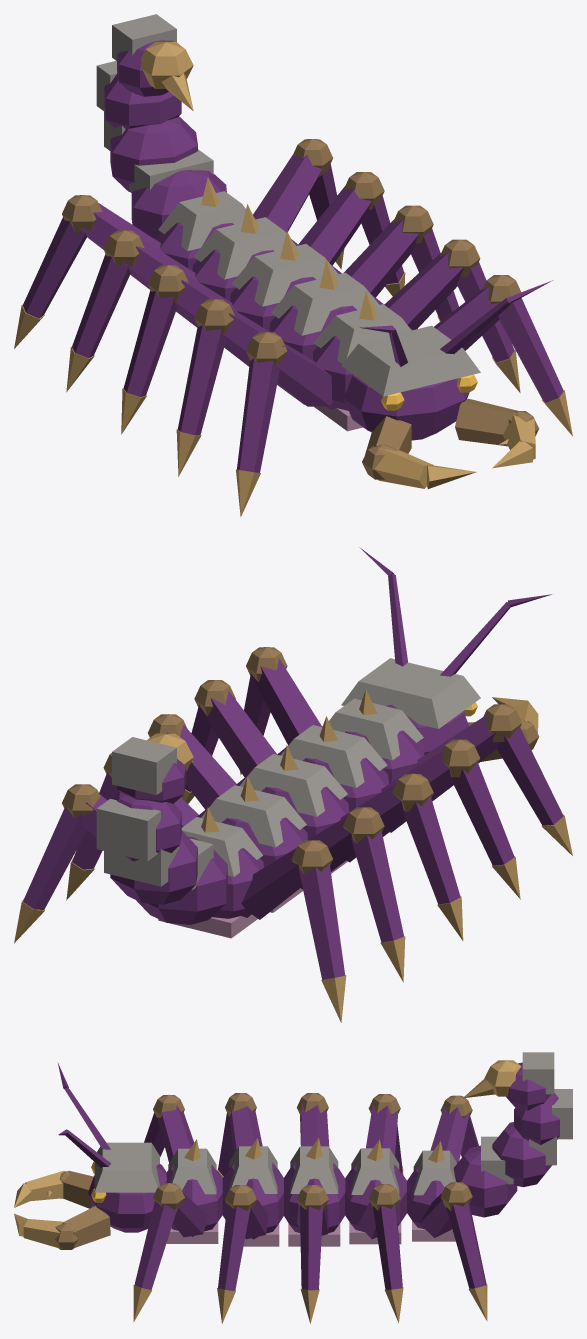
The model's file is cr-crawler.glb.
3 views of the same model, one above another, from view 1: azimuth 30°, elevation 25°; view 2: azimuth 150°, elevation 25°; view 3: azimuth 270°, elevation 25° (orthographic). The views are drawn at different scales.
Visible parts, largest first — view 1: head, body_seg_2, body_seg_3, body_seg_1, tail_1, body_seg_4, tail_2, body_seg_5, pincer_l, leg_2r_upper, leg_1l_lower, pincer_r (+22 smaller); view 2: head, body_seg_3, body_seg_4, tail_3, body_seg_2, body_seg_5, body_seg_1, tail_2, tail_4, leg_5l_lower, leg_2r_upper, leg_4l_lower (+20 smaller); view 3: head, body_seg_3, body_seg_2, body_seg_4, body_seg_1, tail_1, body_seg_5, pincer_r, tail_2, tail_3, leg_1r_lower, leg_5r_lower (+21 smaller).
Boxes of the visible parts, box(x1,y1,x2,y2) form: head: box(341, 325, 480, 440); body_seg_2: box(269, 260, 386, 404); body_seg_3: box(230, 231, 341, 331); body_seg_1: box(313, 291, 412, 431); tail_1: box(129, 149, 226, 240); body_seg_4: box(192, 204, 298, 300); tail_2: box(104, 109, 197, 191); body_seg_5: box(157, 177, 256, 270); pincer_l: box(362, 416, 476, 488); leg_2r_upper: box(384, 239, 480, 329); leg_1l_lower: box(236, 358, 279, 517); pincer_r: box(455, 398, 539, 468); head: box(341, 658, 480, 754); body_seg_3: box(235, 745, 349, 873); body_seg_4: box(197, 776, 307, 912); tail_3: box(96, 792, 181, 861); body_seg_2: box(277, 716, 388, 811); body_seg_5: box(158, 807, 263, 938); body_seg_1: box(322, 689, 424, 783); tail_2: box(104, 830, 197, 904); tail_4: box(112, 737, 185, 803); leg_5l_lower: box(298, 863, 346, 1022); leg_2r_upper: box(194, 680, 276, 777); leg_4l_lower: box(351, 830, 405, 982); head: box(88, 1142, 166, 1232); body_seg_3: box(284, 1137, 345, 1246); body_seg_2: box(222, 1138, 283, 1246); body_seg_4: box(345, 1139, 406, 1244); body_seg_1: box(166, 1139, 222, 1243); tail_1: box(453, 1136, 517, 1217); body_seg_5: box(407, 1141, 456, 1241); pincer_r: box(14, 1206, 110, 1249); tail_2: box(492, 1122, 556, 1187); tail_3: box(514, 1089, 572, 1144); leg_1r_lower: box(133, 1201, 178, 1321); leg_5r_lower: box(446, 1201, 487, 1321).
Size of what is drawn, in the model's own units: 0.7 by 0.505 by 1.28.
